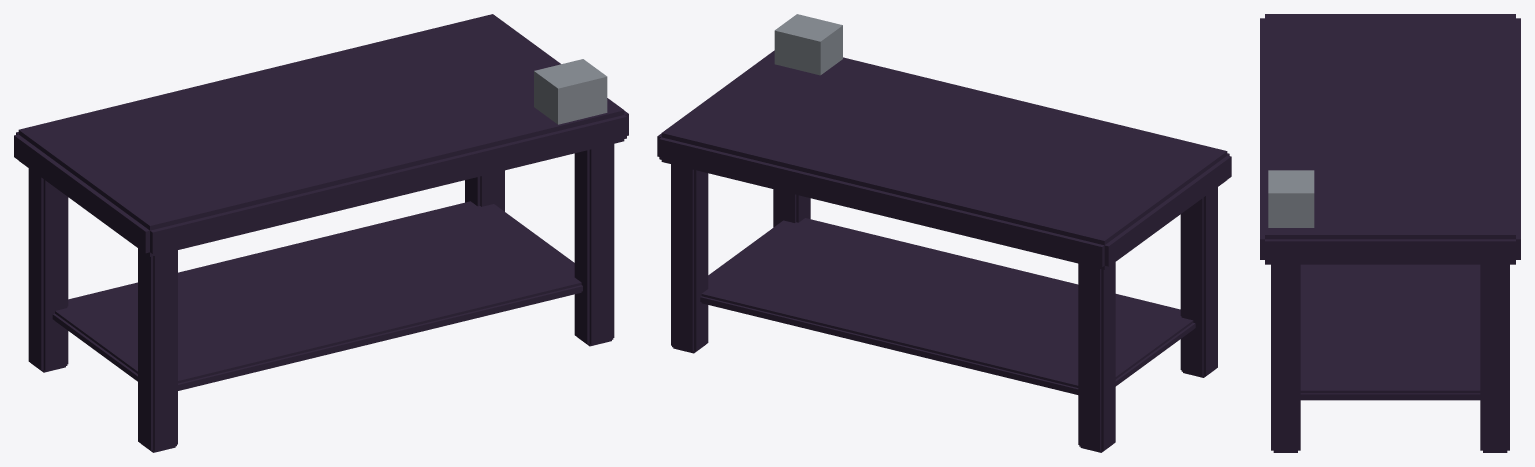
Rendered from obsidian_workbench_v0.glb.
The picture shows the model from 3 angles, left to right: view 1: azimuth 30°, elevation 25°; view 2: azimuth 150°, elevation 25°; view 3: azimuth 270°, elevation 25°; orthographic projection. The views are drawn at different scales.
Parts seen in each view (by area): view 1: obsidian_workbench_v0; view 2: obsidian_workbench_v0; view 3: obsidian_workbench_v0.
Part boxes in pixels (left/top/right/bottom): obsidian_workbench_v0: left=14, top=14, right=628, bottom=452; obsidian_workbench_v0: left=657, top=14, right=1231, bottom=452; obsidian_workbench_v0: left=1260, top=14, right=1520, bottom=452.
Bounding box in the file's own units: 1.96 × 1.04 × 0.96.
